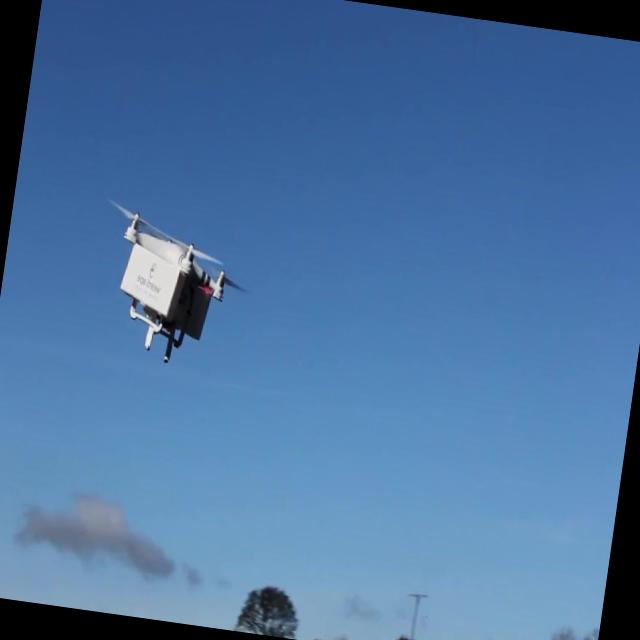drone: (105, 208, 236, 372)
